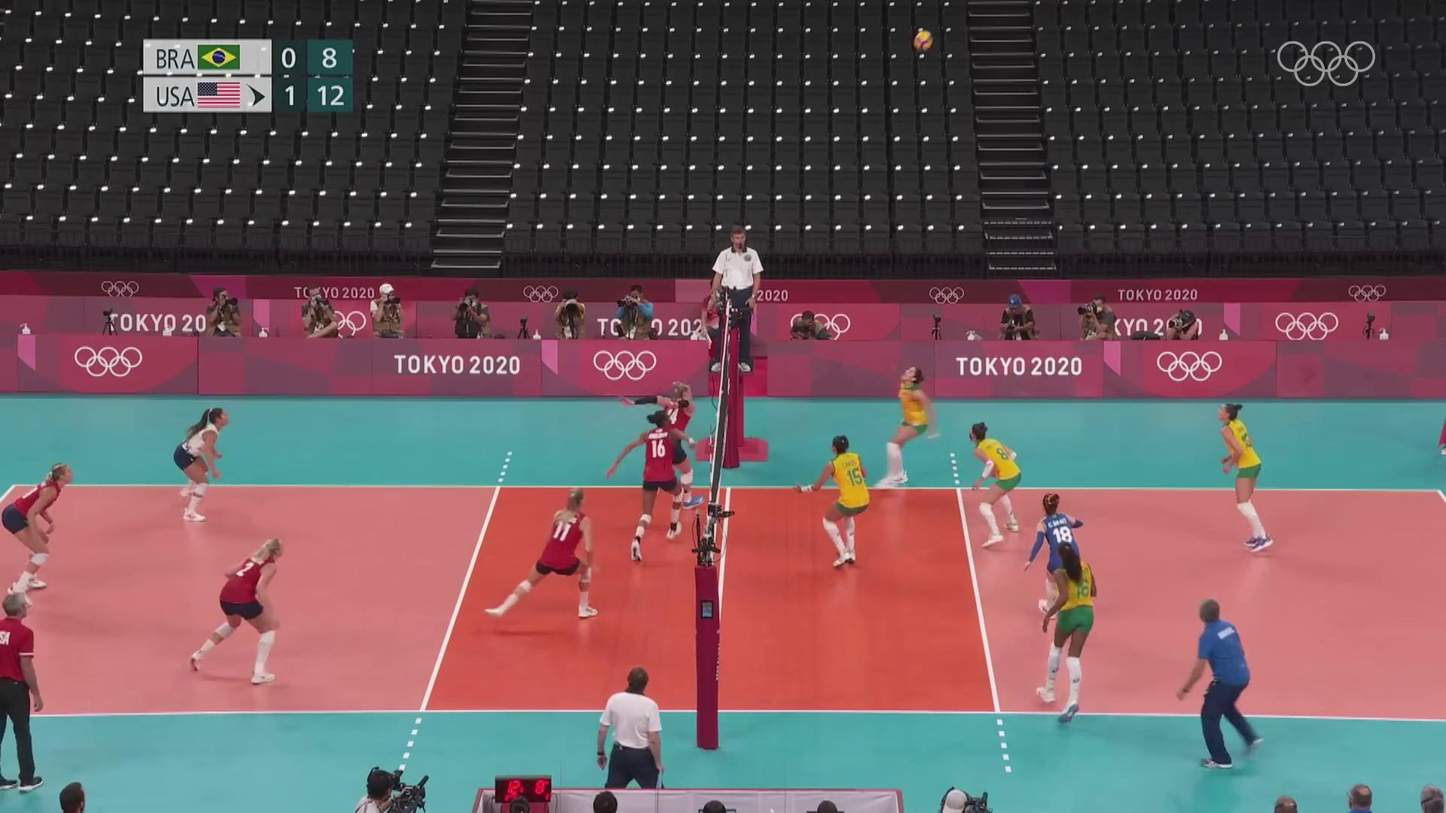player: (495, 493, 612, 620), (187, 538, 286, 684), (619, 408, 698, 560), (792, 437, 875, 568), (625, 380, 700, 510), (1047, 541, 1095, 722), (1218, 405, 1275, 552), (0, 468, 67, 592), (965, 425, 1025, 549), (879, 367, 939, 488), (169, 409, 228, 522), (1032, 490, 1080, 612)
refree: (599, 670, 660, 813), (715, 233, 763, 373)
